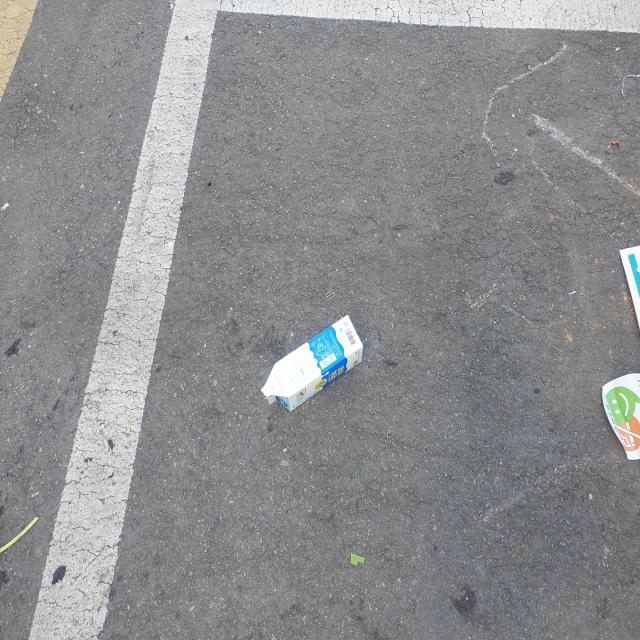paperpack: (262, 315, 363, 411)
